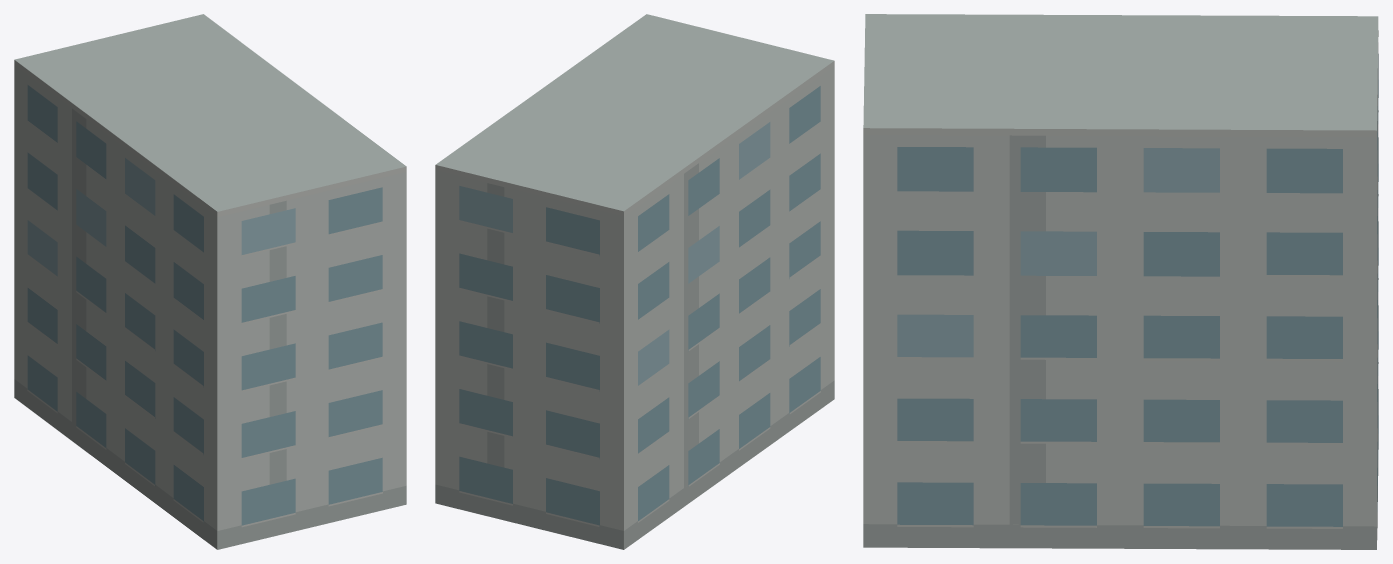
The model's file is survey-upis-32634212.glb.
The picture shows the model from 3 angles, left to right: view 1: azimuth 30°, elevation 25°; view 2: azimuth 150°, elevation 25°; view 3: azimuth 270°, elevation 25°; orthographic projection. The views are drawn at different scales.
Parts seen in each view (by area): view 1: survey-upis-32634212.tmp; view 2: survey-upis-32634212.tmp; view 3: survey-upis-32634212.tmp.
Boxes of the visible parts, left/top/right/bottom form: survey-upis-32634212.tmp: left=14, top=14, right=406, bottom=549; survey-upis-32634212.tmp: left=435, top=14, right=834, bottom=549; survey-upis-32634212.tmp: left=863, top=14, right=1378, bottom=549.
Bounding box in the file's own units: 9.09 × 15.25 × 16.99.
